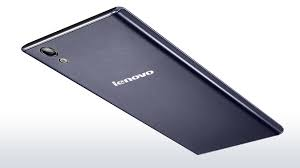lenovo: (19, 5, 285, 156)
